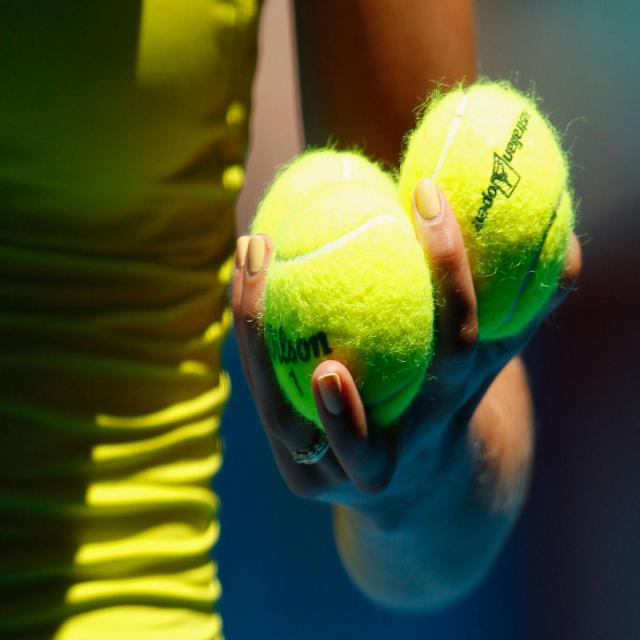ball: (211, 131, 444, 440)
